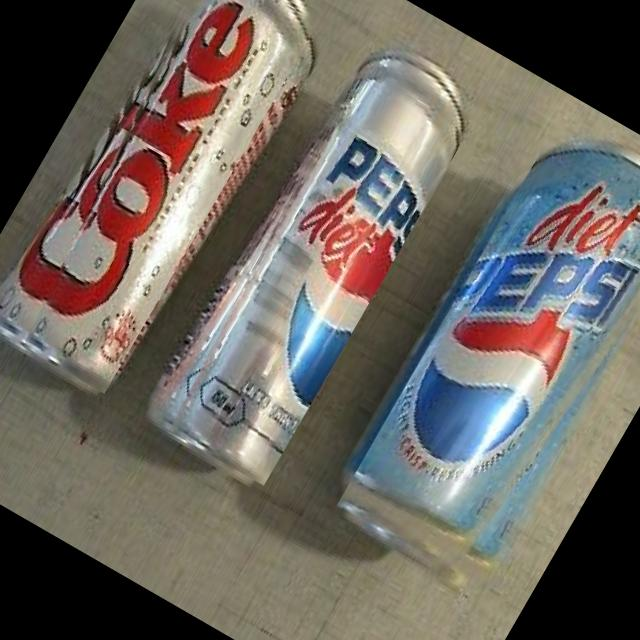Cans: (335, 146, 640, 594), (152, 62, 472, 486), (0, 0, 320, 394)
